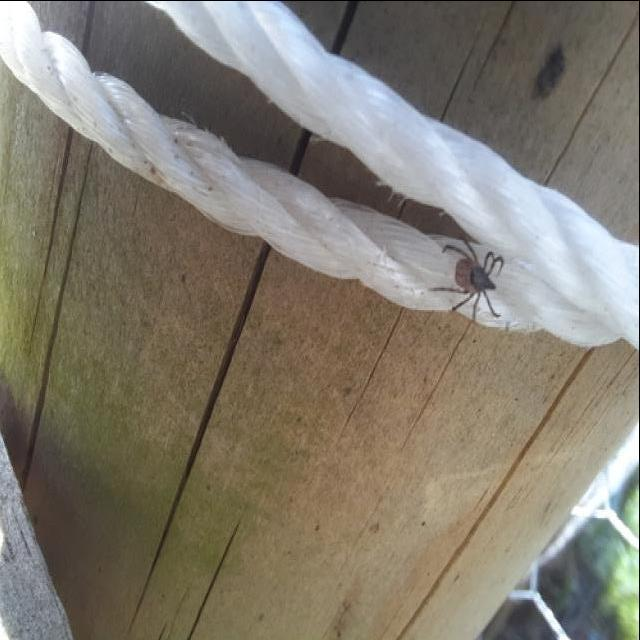Ixodes Ricinus-F: (429, 234, 506, 321)
